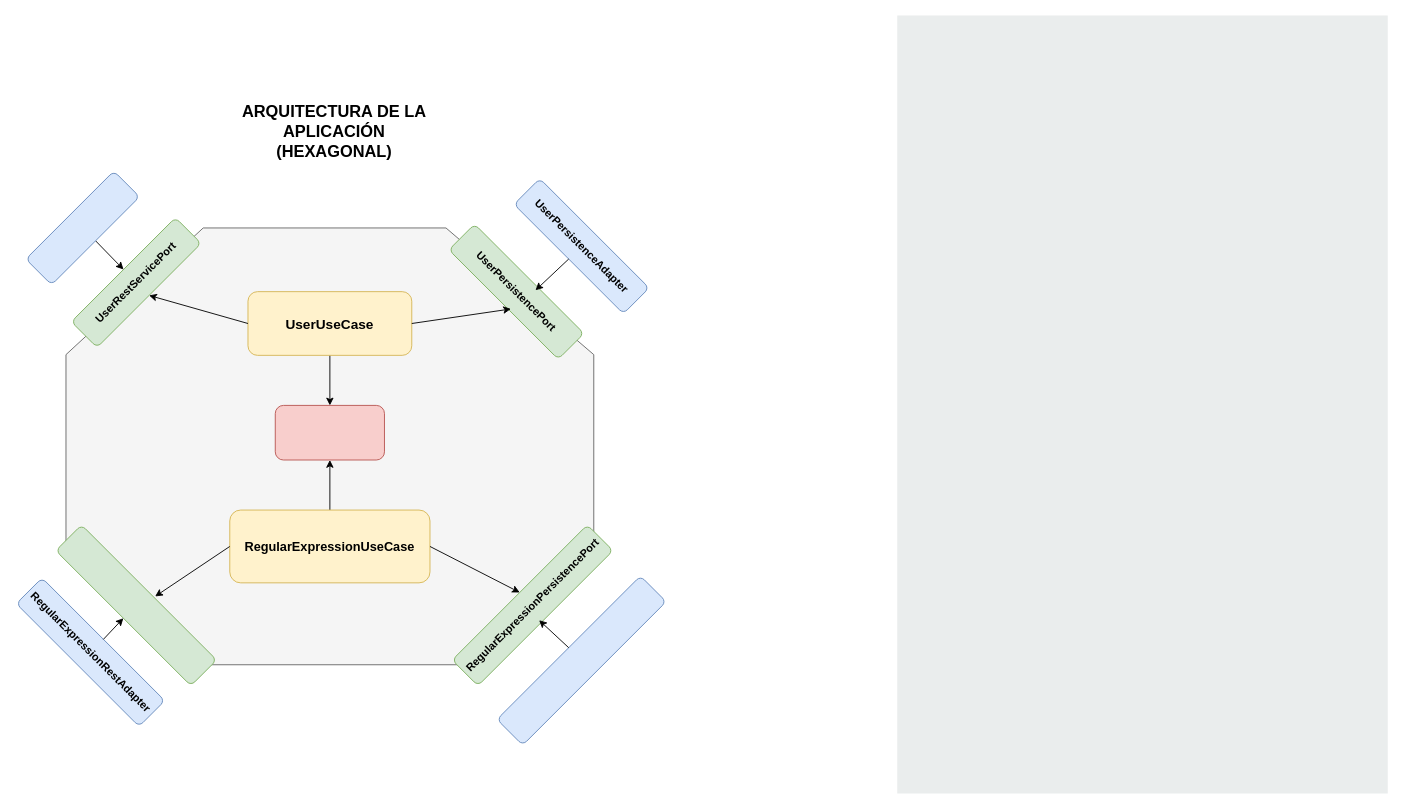
The diagram is 1403 pixels wide and 809 high, and some of its shapes have lost their labels. Here are the shapes that lost their labels. From the top down, the centre of each, then its label:
pixel 82 227: UserRestAdapter
pixel 329 432: Domain
pixel 136 605: RegularExpressionRestServicePort
pixel 581 660: RegularExpressionPersistenceAdapter
